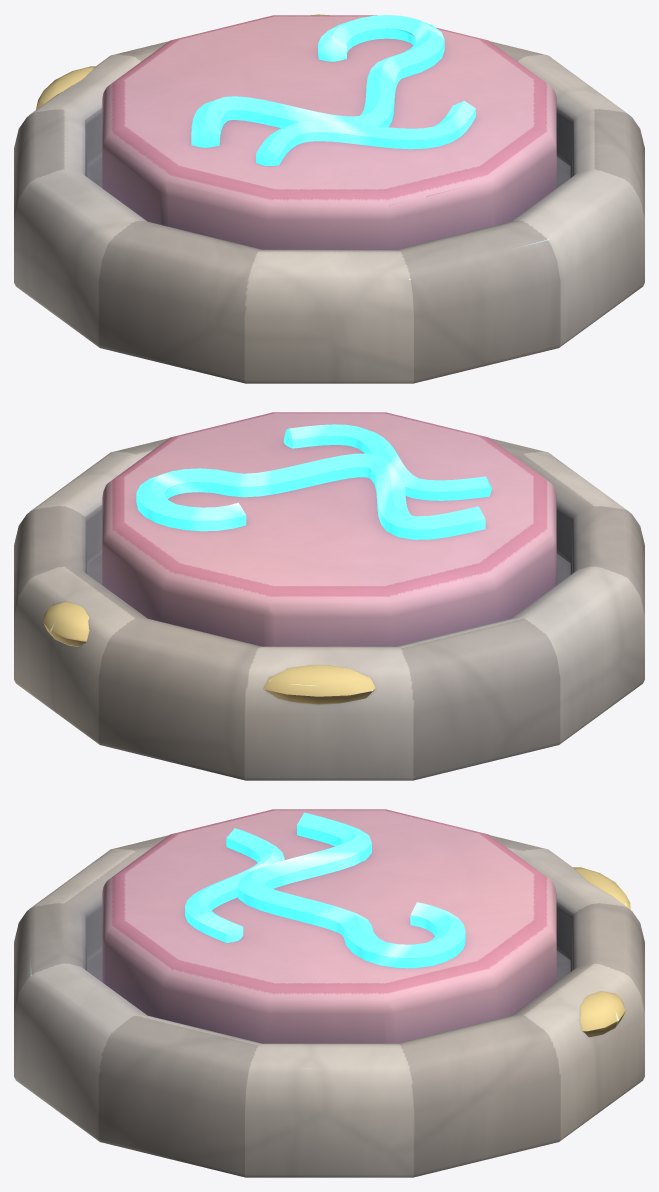
Rendered from CC_G03_TidePlate.fbx.
3 views of the same model, one above another, from view 1: azimuth 30°, elevation 25°; view 2: azimuth 150°, elevation 25°; view 3: azimuth 270°, elevation 25° (orthographic).
Visible parts, largest first — view 1: Base, Plate, Emblem; view 2: Base, Plate, Emblem; view 3: Base, Plate, Emblem.
Part boxes in pixels (left/top/right/bottom): Base: left=14, top=14, right=644, bottom=383; Plate: left=102, top=15, right=556, bottom=249; Emblem: left=191, top=15, right=475, bottom=165; Base: left=14, top=438, right=644, bottom=780; Plate: left=102, top=412, right=556, bottom=646; Emblem: left=136, top=424, right=491, bottom=539; Base: left=14, top=835, right=644, bottom=1177; Plate: left=102, top=809, right=556, bottom=1043; Emblem: left=185, top=812, right=465, bottom=968.
Size of the model in its own units: 1 by 0.293 by 1.
